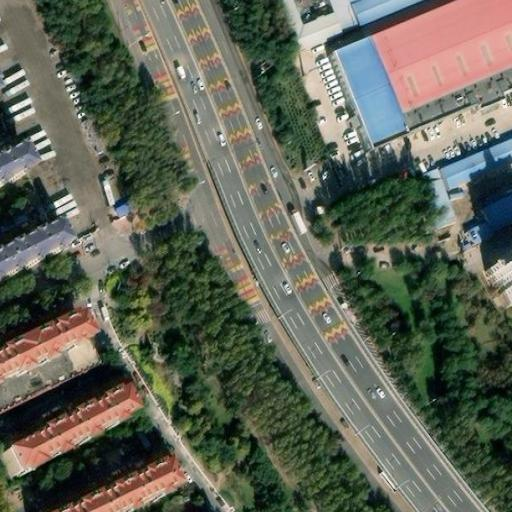building: (330, 0, 512, 146), (0, 392, 130, 483), (0, 310, 87, 384), (60, 461, 176, 512), (0, 219, 67, 279), (441, 137, 512, 188), (415, 169, 463, 230), (481, 191, 512, 236), (486, 263, 512, 309), (464, 219, 495, 247), (110, 193, 135, 217)
